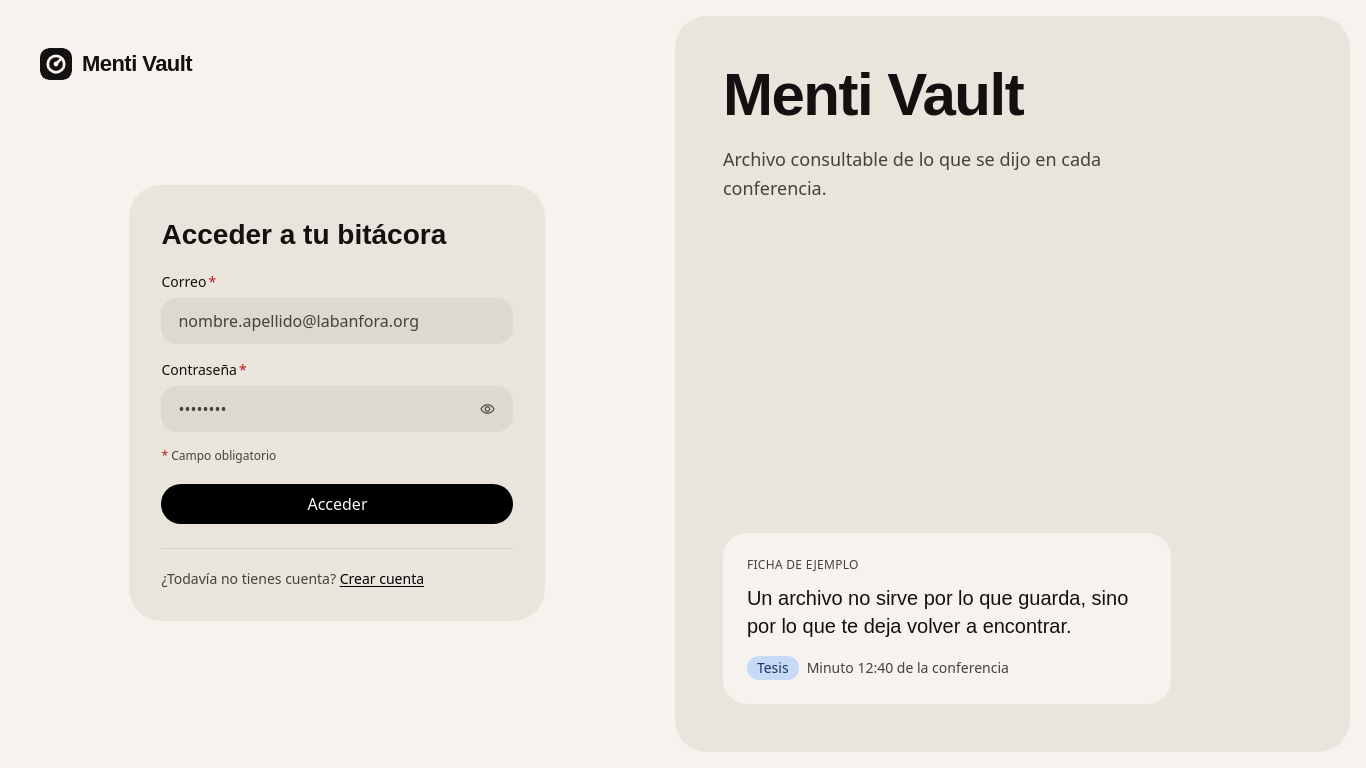
Scenario: PantallaAcceso › marca solo el campo de correo cuando el formato no es válido
Type "no-es-un-correo" into the field labelled "Correo".
click(338, 321); type("no-es-un-correo")  # box [162, 298, 514, 344]
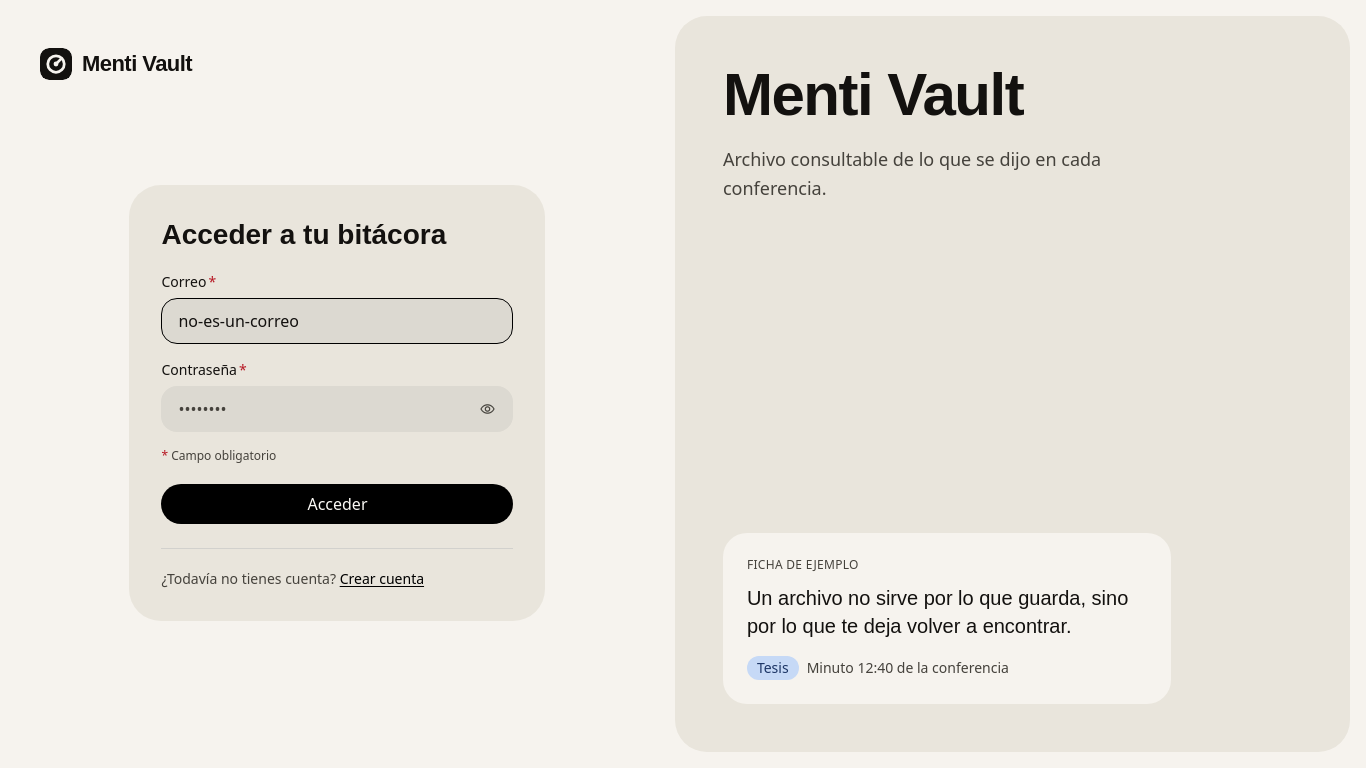
Type "Anfora-2026" into the password field labelled "Contraseña".
click(338, 409); type("Anfora-2026")  # box [162, 386, 514, 432]
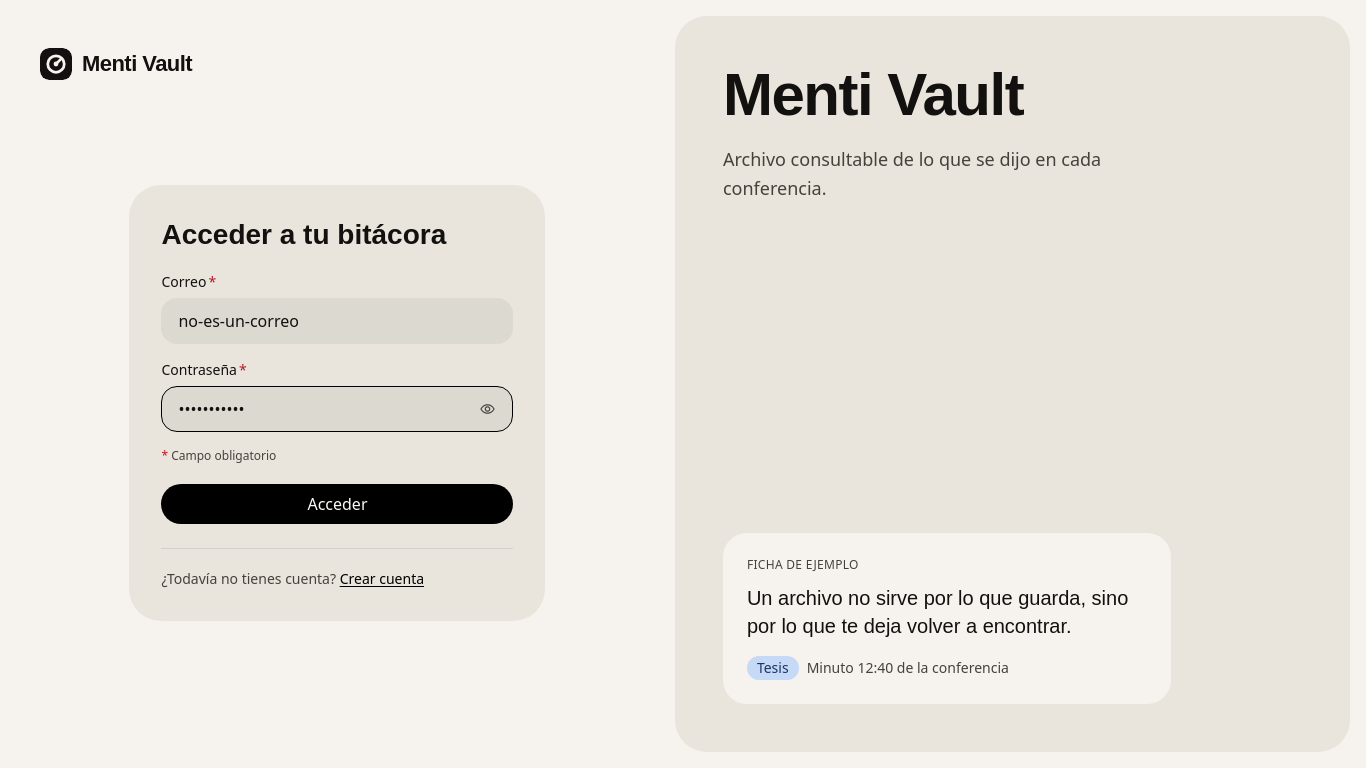
Click the button "Acceder".
click(338, 504)  # box [162, 484, 514, 524]
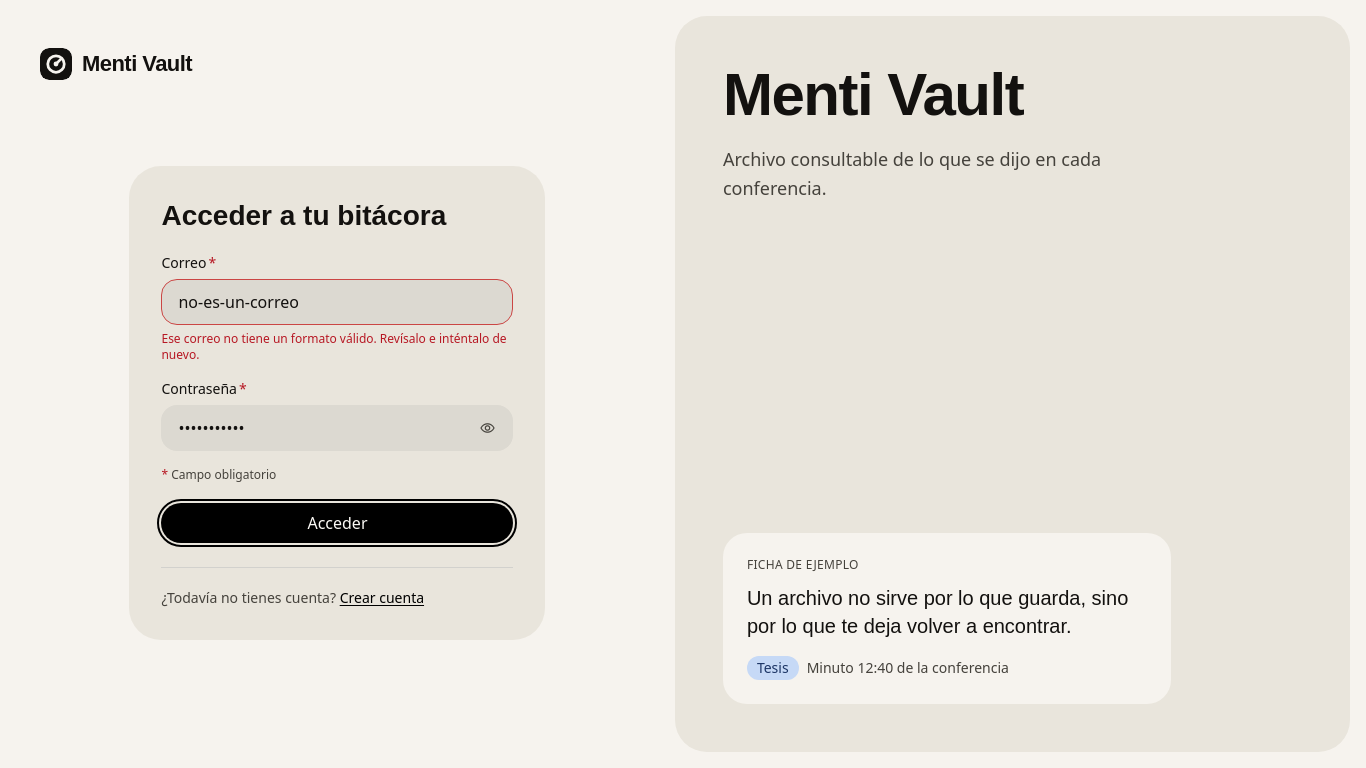
Expected: the text "Ese correo no tiene un formato válido. Revísalo e inténtalo de nuevo." is shown, [162, 331, 514, 363]
